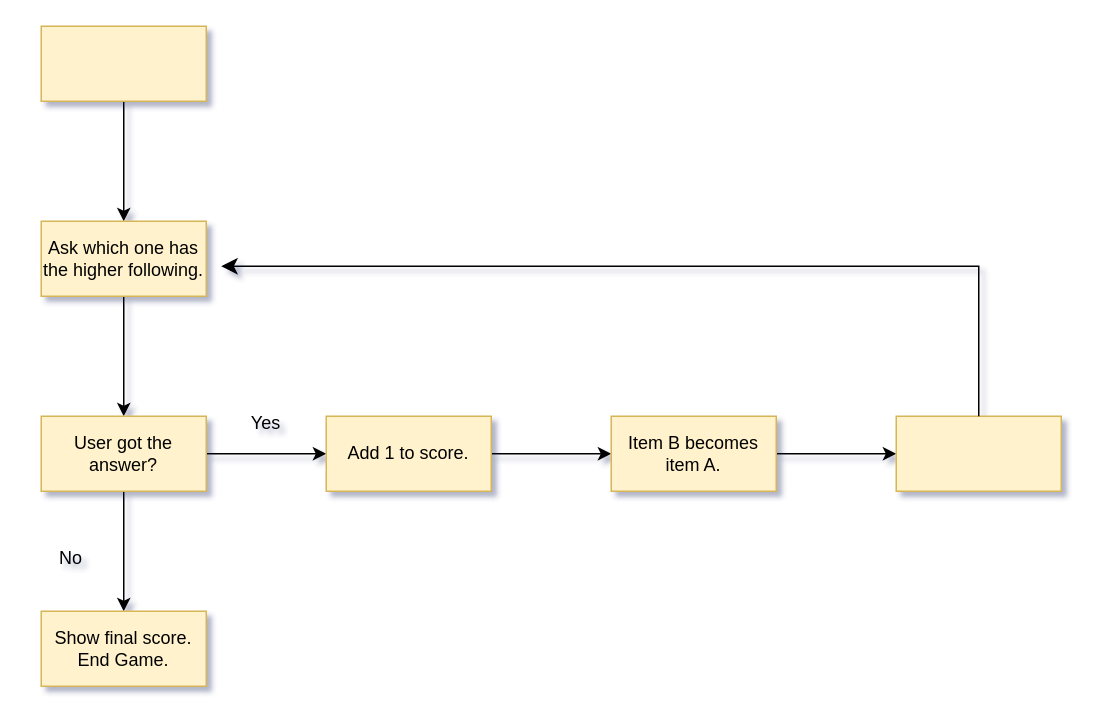
Some shapes in this 1097 by 722 pixel diagram are drawn without their labels. Here are the shapes that lost their labels. From the top down, the centre of each, then its label:
At (x=123, y=63): "Generate 2 random items from the list. A and B".
At (x=978, y=453): "New item is chosen from list as B.".
